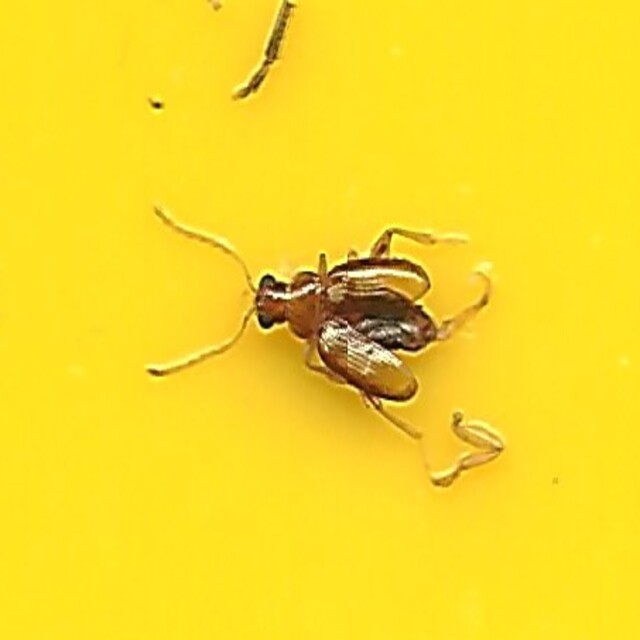Coleoptera: (141, 198, 499, 442)
